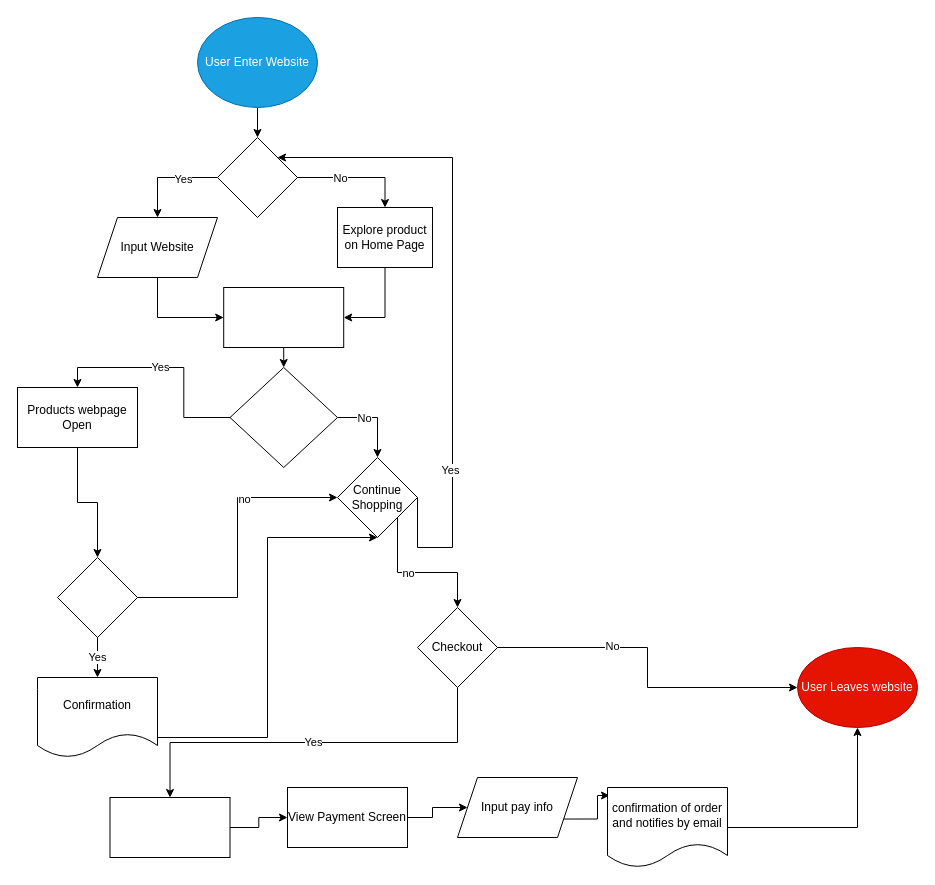
Some shapes in this 935 by 885 pixel diagram are drawn without their labels. Each missing label, with the centre of its shape:
Add to cart: the point at 97,597
look at a product: the point at 283,317
Search a product: the point at 257,177
View Cart: the point at 169,827
view item: the point at 283,417
